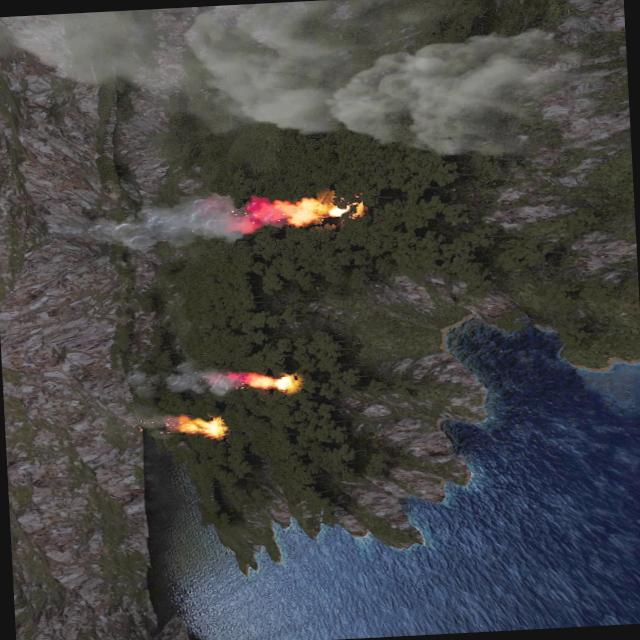fire: (245, 191, 345, 232), (174, 413, 225, 440), (244, 370, 296, 394)
smoke: (189, 0, 603, 165), (0, 10, 163, 94), (86, 192, 244, 250), (128, 354, 240, 398), (111, 410, 177, 447)
